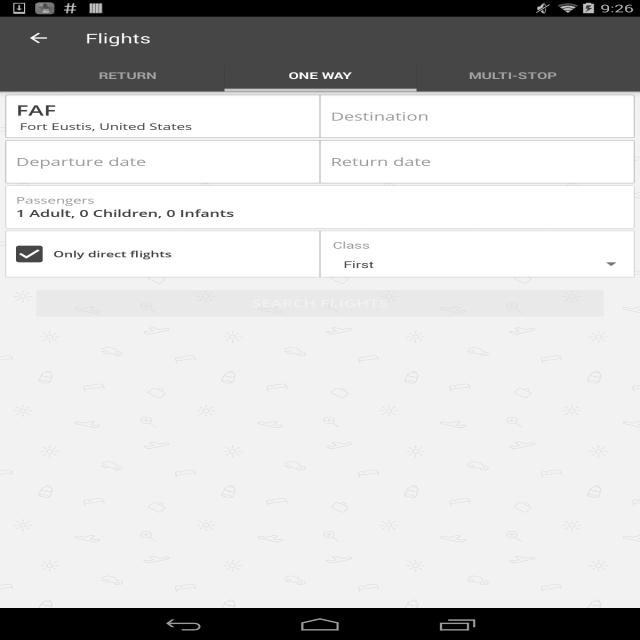Button: (32, 286, 608, 321)
CheckBox: (16, 246, 313, 262)
ImageButton: (9, 17, 68, 59)
Spinner: (333, 252, 622, 278)
TextView: (16, 206, 627, 220), (16, 194, 627, 206), (16, 100, 313, 120), (16, 154, 313, 169), (331, 109, 627, 124), (331, 154, 627, 169), (16, 120, 313, 133), (333, 239, 622, 251), (344, 258, 594, 271), (85, 29, 151, 47), (469, 69, 557, 82), (288, 69, 352, 82), (99, 69, 157, 82)
